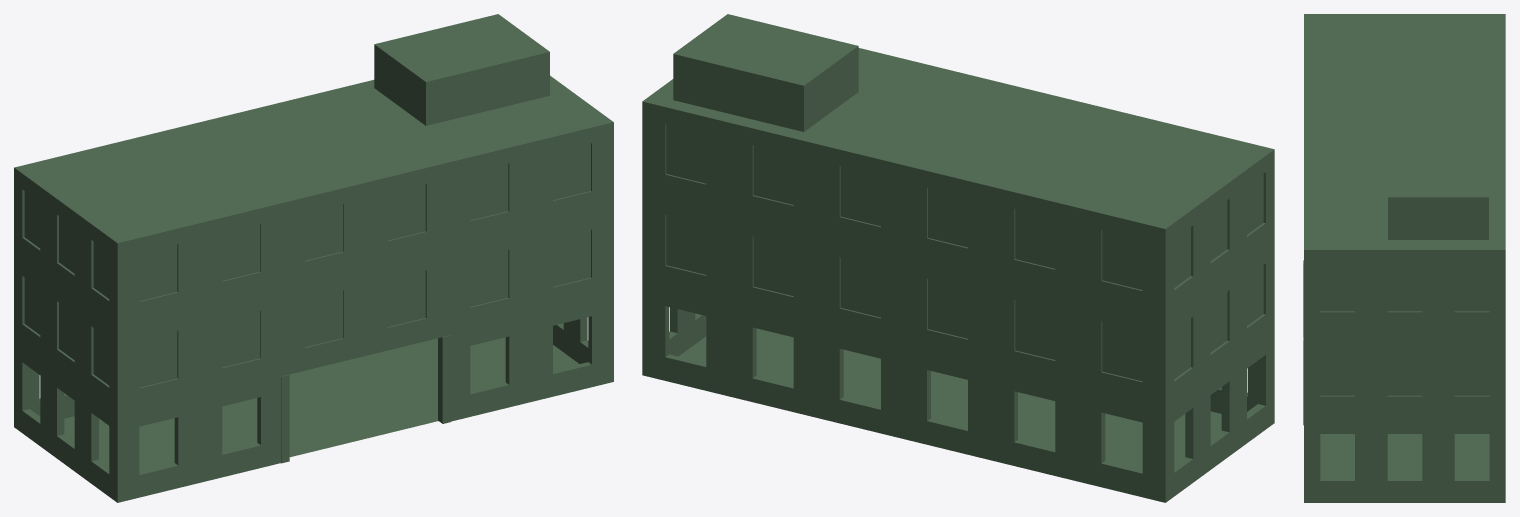
File: building_2 1.fbx
3 views of the same model, side by side, from view 1: azimuth 30°, elevation 25°; view 2: azimuth 150°, elevation 25°; view 3: azimuth 270°, elevation 25° (orthographic). The views are drawn at different scales.
Visible parts, largest first — view 1: building2; view 2: building2; view 3: building2.
Boxes of the visible parts, x1,y1,x2,y2 form: building2: [14, 14, 613, 502]; building2: [642, 14, 1274, 502]; building2: [1303, 14, 1505, 502].
Bounding box in the file's own units: 18 × 10.52 × 6.53.
